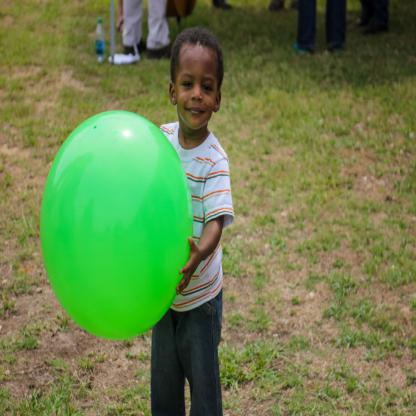Ball: (40, 110, 194, 340)
